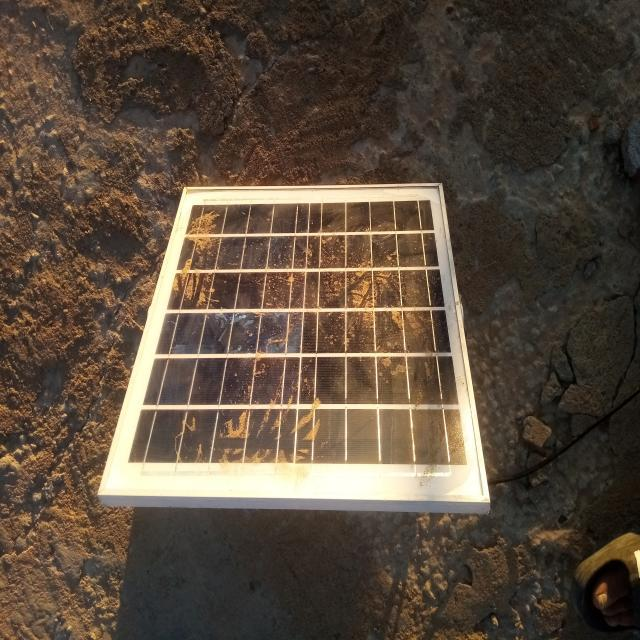faulty: (105, 187, 491, 503)
